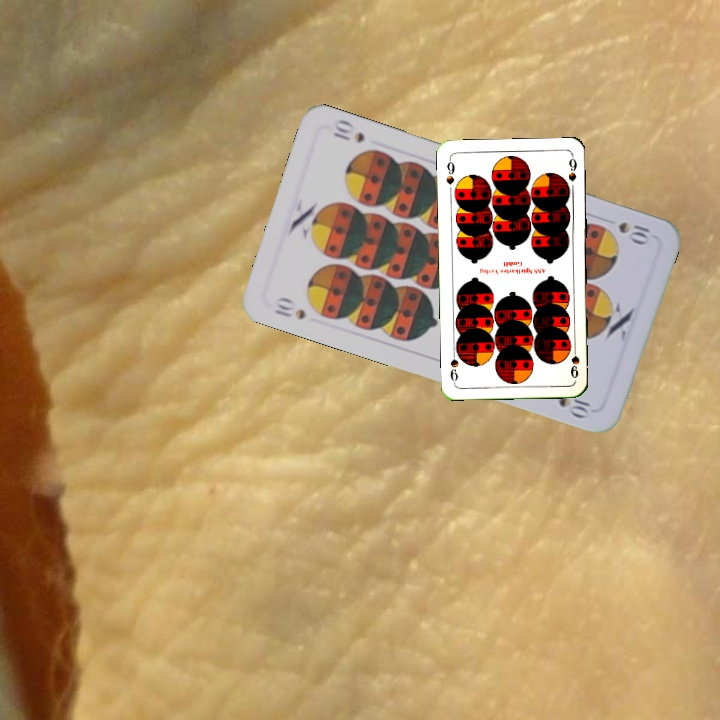S10: (613, 217, 653, 246), (270, 293, 308, 323)
S9: (567, 341, 582, 381), (442, 155, 457, 187)
